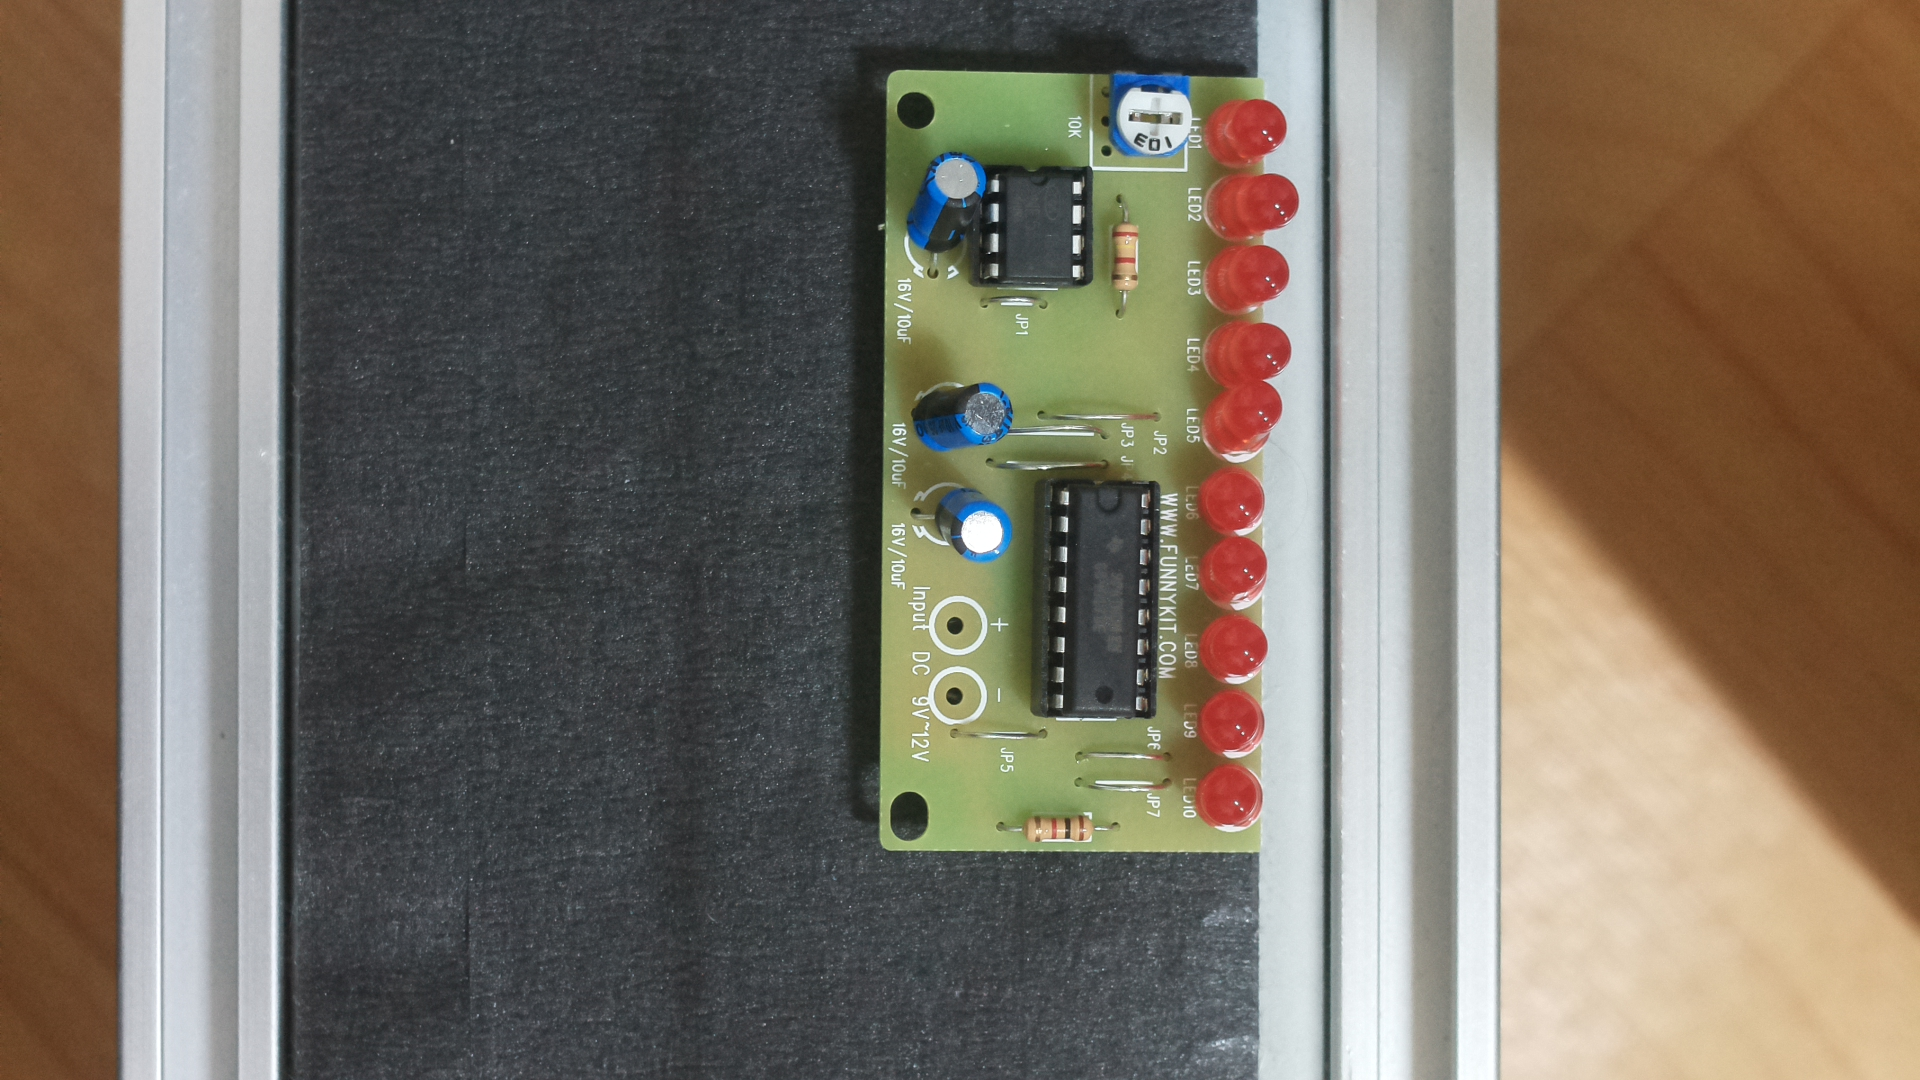B_Normal: (869, 42, 1305, 872)
